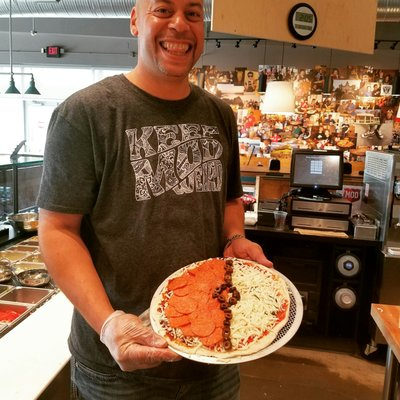pizza: (273, 210, 287, 229)
